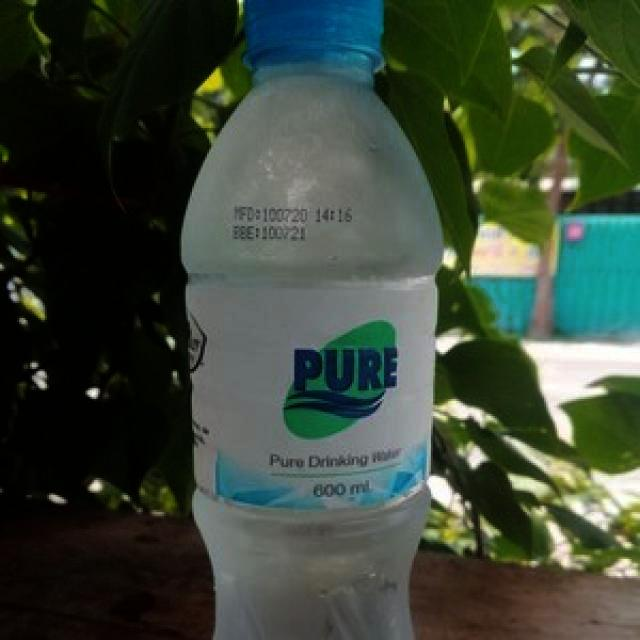bottle: (180, 0, 444, 640)
